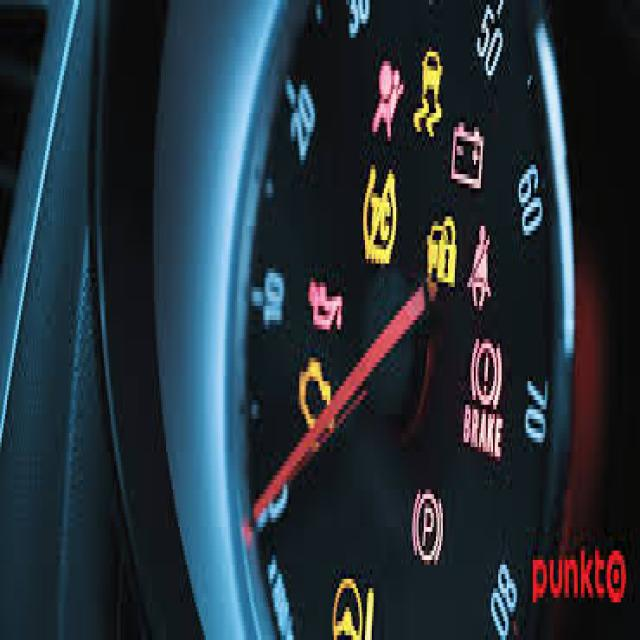kontrolka: (458, 332, 511, 476), (407, 472, 452, 583), (412, 41, 447, 156), (367, 52, 407, 152), (327, 562, 373, 636), (306, 261, 347, 344), (294, 360, 338, 432), (449, 122, 484, 196)
